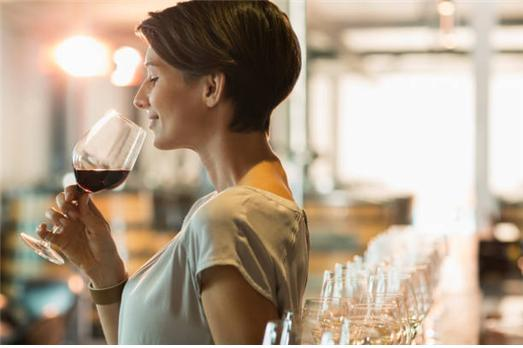alcohol: (16, 110, 146, 264)
